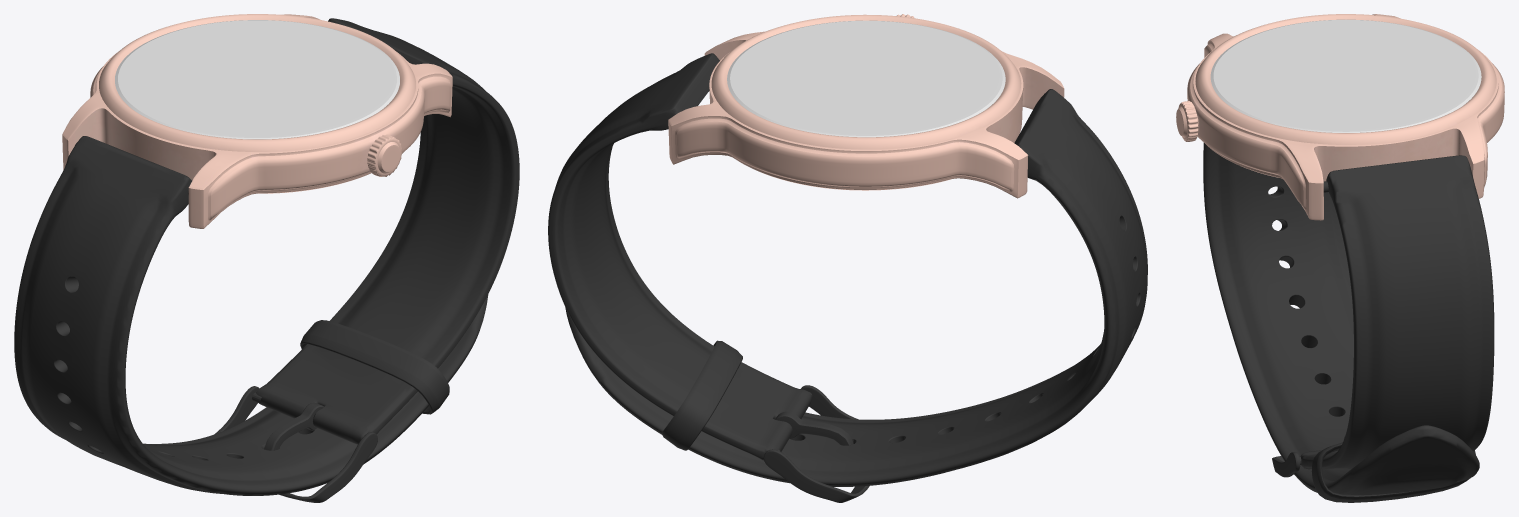
File: hand left watch.fbx
3 views of the same model, side by side, from view 1: azimuth 30°, elevation 25°; view 2: azimuth 150°, elevation 25°; view 3: azimuth 270°, elevation 25° (orthographic). The views are drawn at different scales.
Parts seen in each view (by area): view 1: Straps, Glass, Base, Holder2, Fixator, SideThing, FixatorPart; view 2: Straps, Base, Glass, Holder2, Fixator, FixatorPart; view 3: Straps, Glass, Base, Holder2, SideThing, Fixator.
Part boxes in pixels (left/top/right/bottom): Straps: left=14, top=18, right=519, bottom=495; Glass: left=115, top=20, right=399, bottom=139; Base: left=62, top=14, right=452, bottom=228; Holder2: left=300, top=320, right=449, bottom=414; Fixator: left=214, top=386, right=377, bottom=502; SideThing: left=367, top=134, right=402, bottom=176; FixatorPart: left=264, top=402, right=323, bottom=450; Straps: left=548, top=53, right=1147, bottom=486; Base: left=668, top=14, right=1064, bottom=198; Glass: left=727, top=20, right=1005, bottom=137; Holder2: left=661, top=340, right=742, bottom=450; Fixator: left=763, top=385, right=869, bottom=502; FixatorPart: left=775, top=411, right=853, bottom=445; Straps: left=1203, top=142, right=1494, bottom=495; Glass: left=1210, top=19, right=1481, bottom=132; Base: left=1187, top=14, right=1504, bottom=220; Holder2: left=1311, top=442, right=1475, bottom=502; SideThing: left=1176, top=101, right=1198, bottom=141; Fixator: left=1272, top=452, right=1300, bottom=477.
Size of the model in its own units: 8.95 by 6.83 by 5.17.
Materials: 3 (1 with a texture image).
